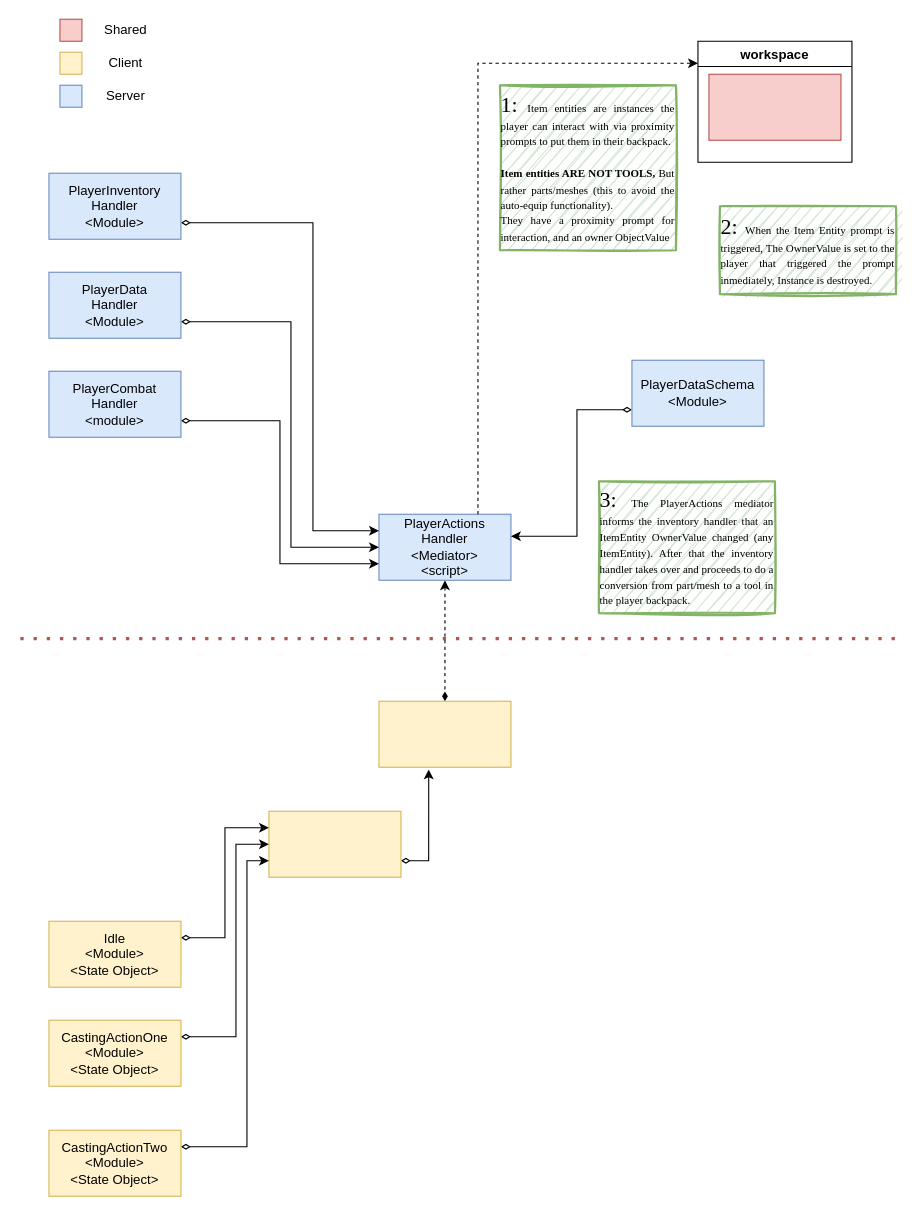
This 922x1216 diagram has some shape labels left out. The shapes that lost their labels are listed below. From the top down, each one's centre as x and y in pixels, then its label:
At point 774,106: "ClassicSword Instance <ItemEntity>".
At point 444,733: "PlayerActions Controller <Mediator> <local script>".
At point 334,843: "CombatController <Module> <State Context>".
